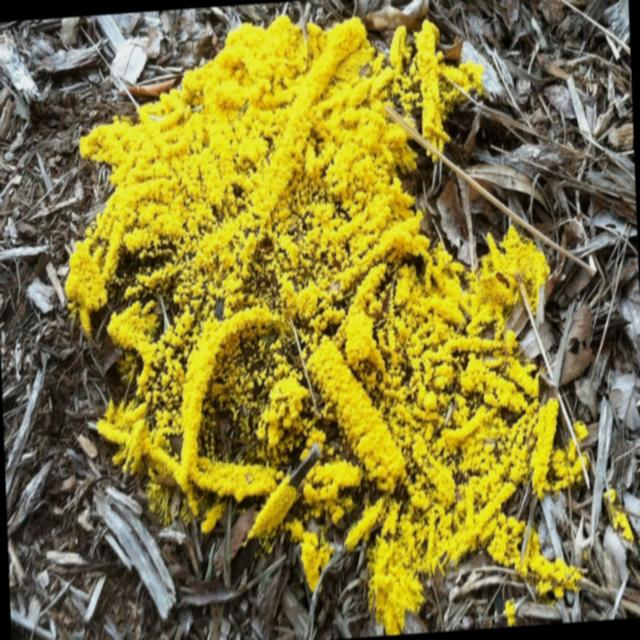Dog_vomit_slime_mold: (71, 25, 640, 640)
